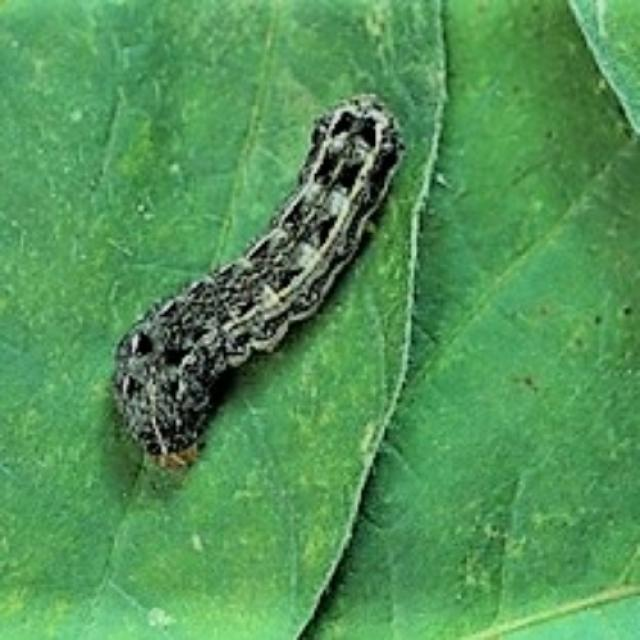armyworm: (107, 91, 406, 472)
